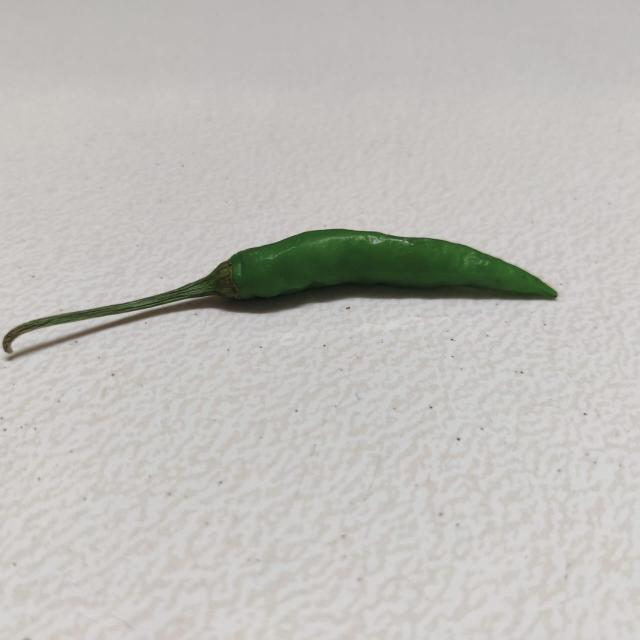Organik: (0, 213, 572, 398)
